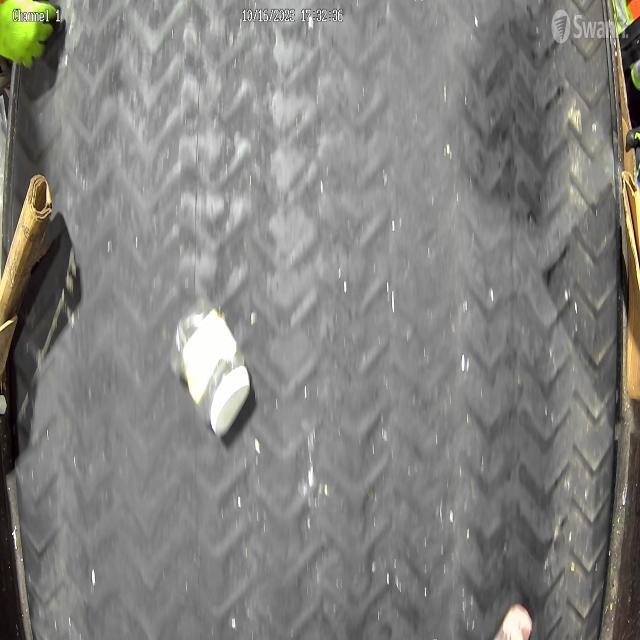plastic_bottle: (175, 298, 250, 431)
